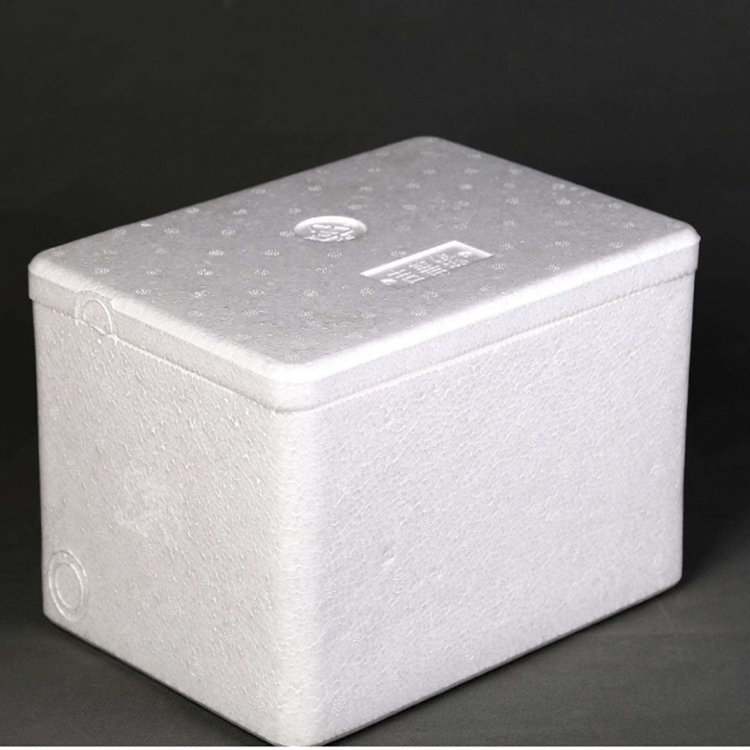泡沫箱: (30, 138, 699, 744)
